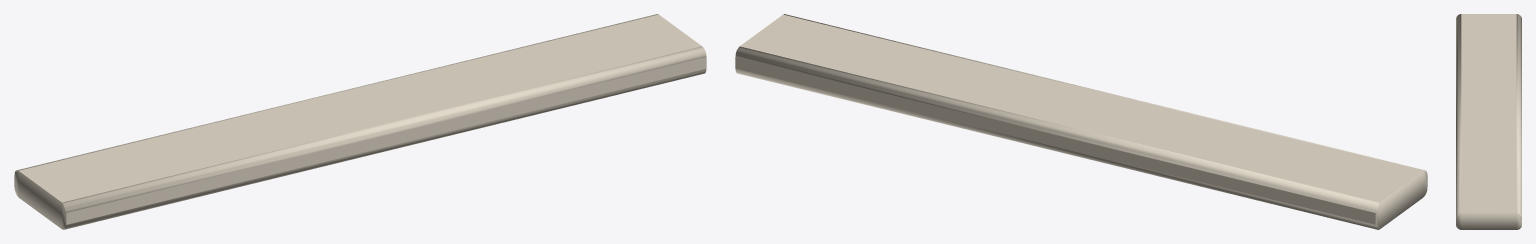
Rendered from Coping.glb.
3 views of the same model, side by side, from view 1: azimuth 30°, elevation 25°; view 2: azimuth 150°, elevation 25°; view 3: azimuth 270°, elevation 25° (orthographic). The views are drawn at different scales.
Visible parts, largest first — view 1: PBK_Coping.012; view 2: PBK_Coping.012; view 3: PBK_Coping.012.
Boxes of the visible parts, bbox=[...] form: PBK_Coping.012: bbox=[14, 14, 706, 229]; PBK_Coping.012: bbox=[735, 14, 1427, 229]; PBK_Coping.012: bbox=[1456, 14, 1521, 229].
Size of the model in its own units: 2 by 0.08 by 0.28.
